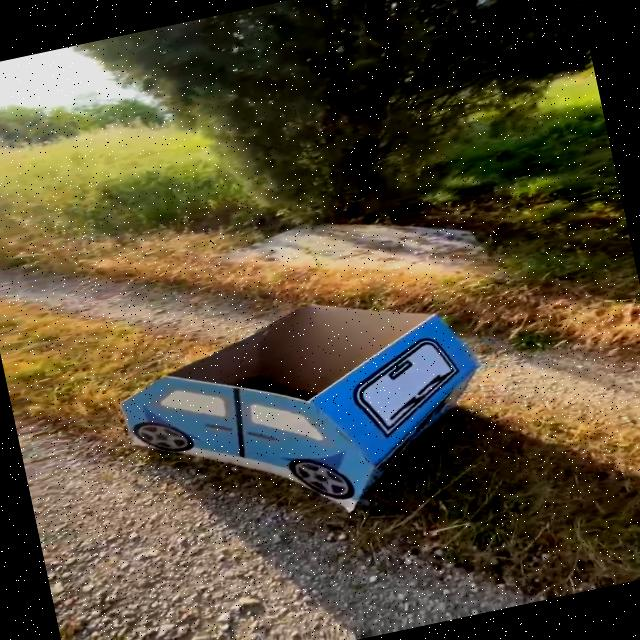blue_car: (48, 243, 565, 596)
